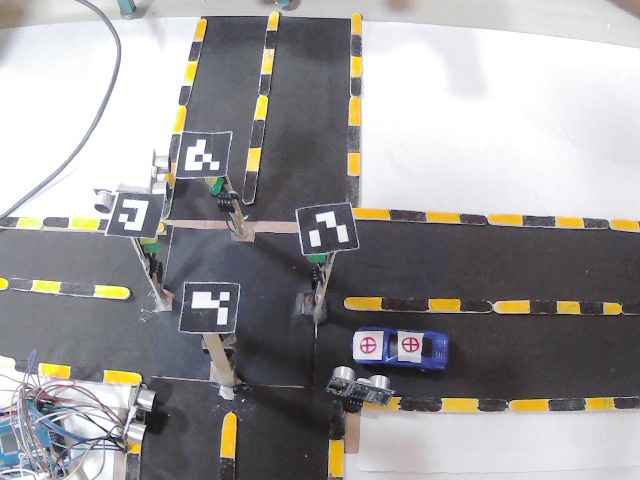aruco_marker: (179, 278, 241, 334), (296, 200, 359, 253), (173, 128, 234, 181), (105, 192, 165, 240)
emergency_vehicle: (348, 324, 452, 375)
traffic_light: (200, 176, 235, 219), (138, 234, 163, 286), (307, 254, 336, 290)
uno_breadboard: (0, 398, 79, 480), (324, 365, 395, 412), (121, 383, 158, 442), (90, 187, 131, 216), (147, 150, 170, 200)
